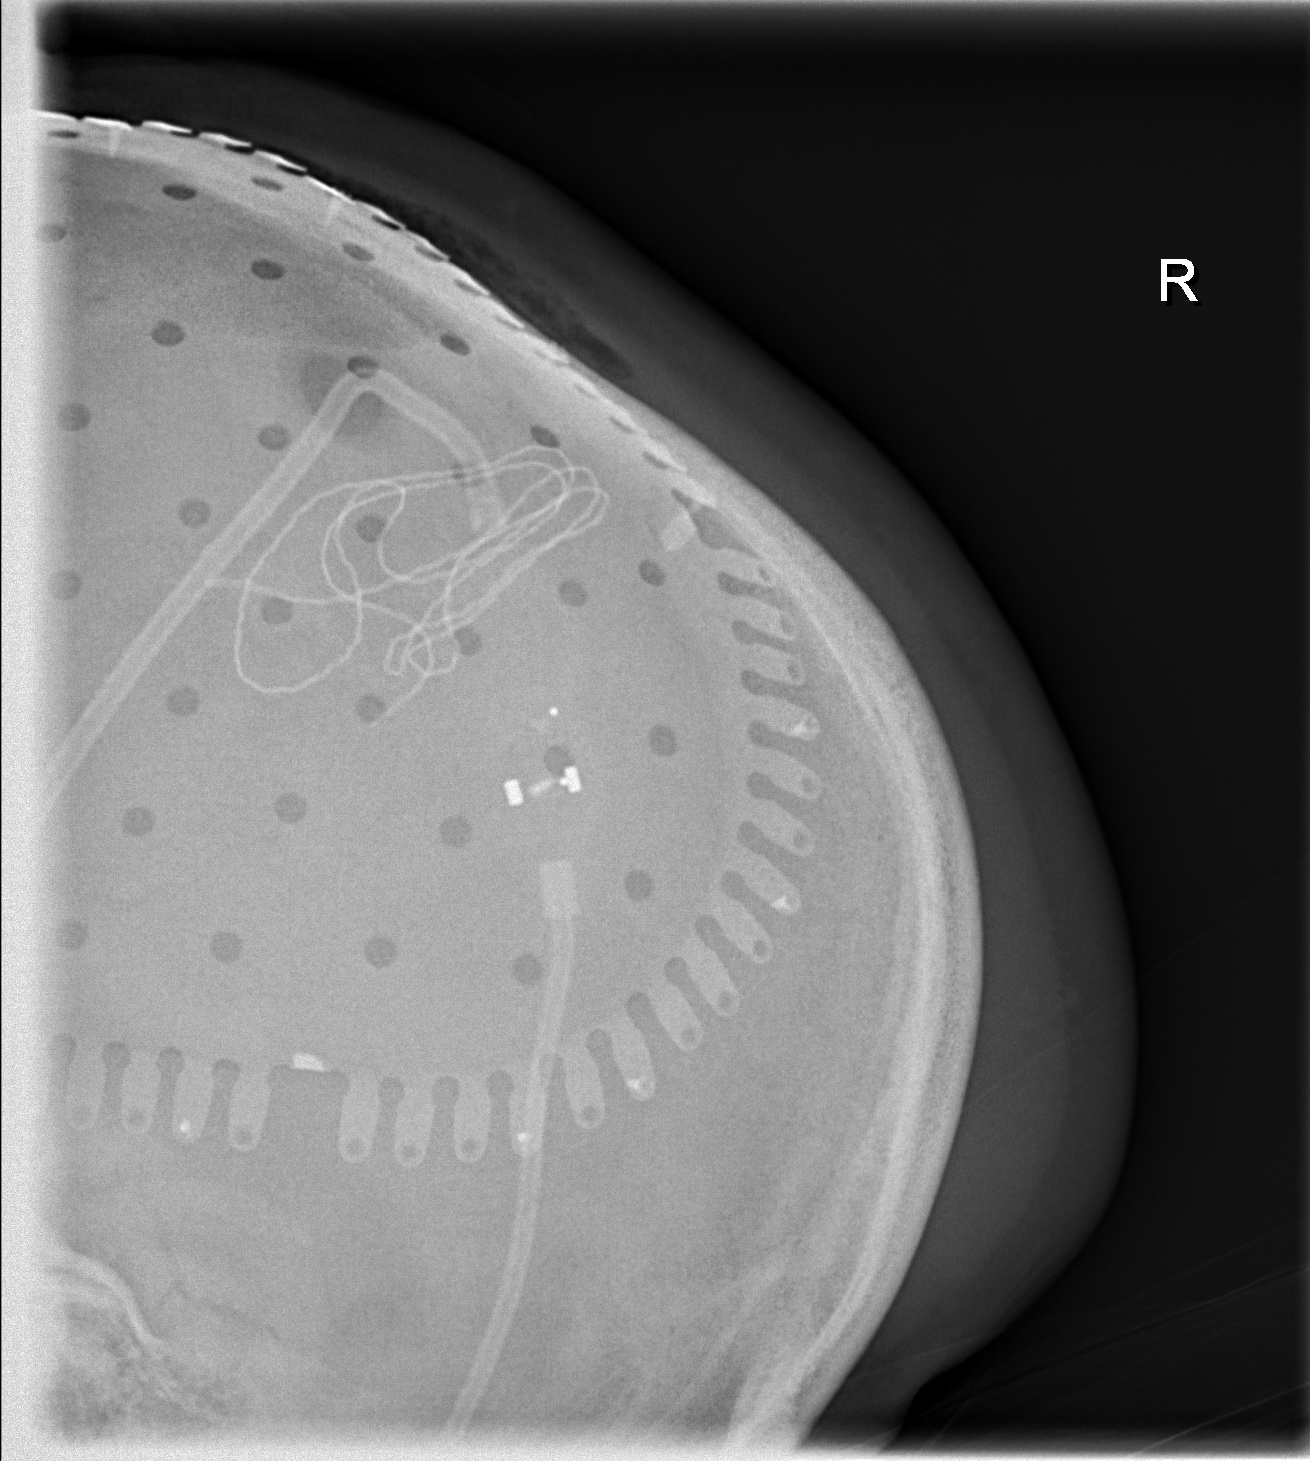Codman Certas: (489, 694, 601, 839)
